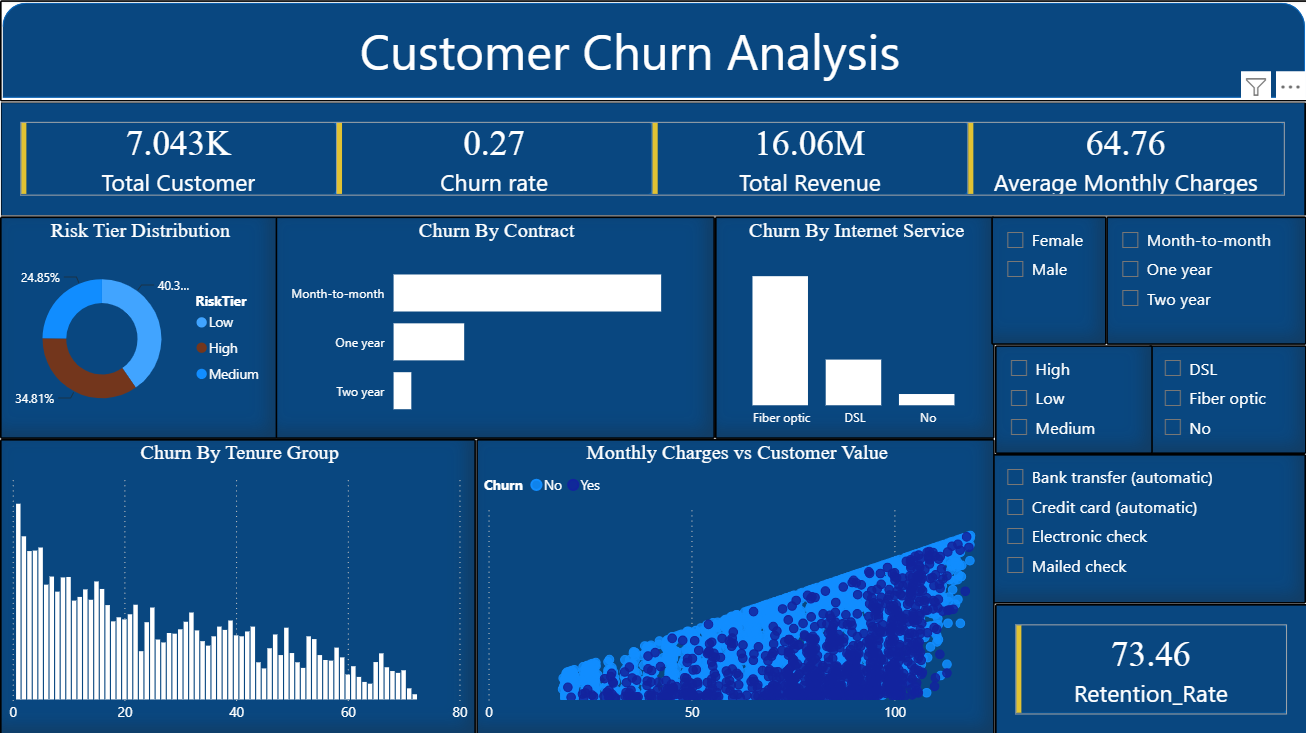

The dashboard page shown, as its layout file describes it:
{"tool":"powerbi","page":{"name":"Page 1","canvas":[1280,720],"ordinal":0},"visuals":[{"type":"shape","box":[0,1.2,1280.3,99],"z":0},{"type":"textbox","box":[8.6,12.2,1215.5,79.5],"z":1000},{"type":"cardVisual","fields":{"Data":["CountNonNull(Sheet.customerID)","Avg(Sheet.Churn_flag)","Sum(Sheet.Customer_value)","Avg(Sheet.MonthlyCharges)"]},"box":[0,100.3,1277.9,112.5],"z":2000},{"type":"clusteredBarChart","title":"Churn By Contract","fields":{"Y":["Avg(Sheet.Churn_flag)"],"Category":["Sheet.Contract"]},"box":[269,212.8,430.4,217.7],"z":3000},{"type":"columnChart","title":"Churn By Internet Service","fields":{"Category":["Sheet.InternetService"],"Y":["Sum(Sheet.Churn_flag)"]},"box":[699.5,212.8,273.9,217.7],"z":4000},{"type":"donutChart","title":"Risk Tier Distribution","fields":{"Category":["Sheet.RiskTier"],"Y":["CountNonNull(Sheet.customerID)"]},"box":[0,212.8,271.5,217.7],"z":5000},{"type":"columnChart","title":"Churn By Tenure Group","fields":{"Y":["Avg(Sheet.Churn_flag)"],"Category":["Sheet.tenure"]},"box":[0,430.4,465.9,289.8],"z":6000},{"type":"slicer","fields":{"Values":["Sheet.Contract"]},"box":[1082.2,212.8,195.7,126],"z":8000},{"type":"slicer","fields":{"Values":["Sheet.gender"]},"box":[969.7,212.8,112.5,126],"z":9000},{"type":"slicer","fields":{"Values":["Sheet.InternetService"]},"box":[1123.8,338.7,154.1,106.4],"z":10000},{"type":"slicer","fields":{"Values":["Sheet.RiskTier"]},"box":[973.4,338.7,154.1,106.4],"z":11000},{"type":"slicer","fields":{"Values":["Sheet.PaymentMethod"]},"box":[969.7,445.1,308.2,146.7],"z":12000},{"type":"scatterChart","title":"Monthly Charges vs Customer Value","fields":{"X":["Sheet.MonthlyCharges"],"Y":["Sheet.Customer_value"],"Series":["Sheet.Churn"]},"box":[465.9,430.4,507.5,289.8],"z":13000},{"type":"cardVisual","fields":{"Data":["Sheet.Retention_Rate"]},"box":[973.4,591.9,306.9,128.4],"z":14000}]}

Visuals, with their boxes in screenshot pixels (x1, y1, x2, y2), scaled from the page's 1280x720 canvas onto the 1306x733 screenshot:
shape: detection(0, 1, 1305, 102)
textbox: detection(9, 12, 1249, 93)
cardVisual - CountNonNull(Sheet.customerID) x Avg(Sheet.Churn_flag): detection(0, 102, 1304, 217)
"Churn By Contract" clusteredBarChart: detection(274, 217, 714, 438)
"Churn By Internet Service" columnChart: detection(714, 217, 993, 438)
"Risk Tier Distribution" donutChart: detection(0, 217, 277, 438)
"Churn By Tenure Group" columnChart: detection(0, 438, 475, 732)
slicer - Sheet.Contract: detection(1104, 217, 1304, 345)
slicer - Sheet.gender: detection(989, 217, 1104, 345)
slicer - Sheet.InternetService: detection(1147, 345, 1304, 453)
slicer - Sheet.RiskTier: detection(993, 345, 1150, 453)
slicer - Sheet.PaymentMethod: detection(989, 453, 1304, 602)
"Monthly Charges vs Customer Value" scatterChart: detection(475, 438, 993, 732)
cardVisual - Sheet.Retention_Rate: detection(993, 603, 1305, 732)
